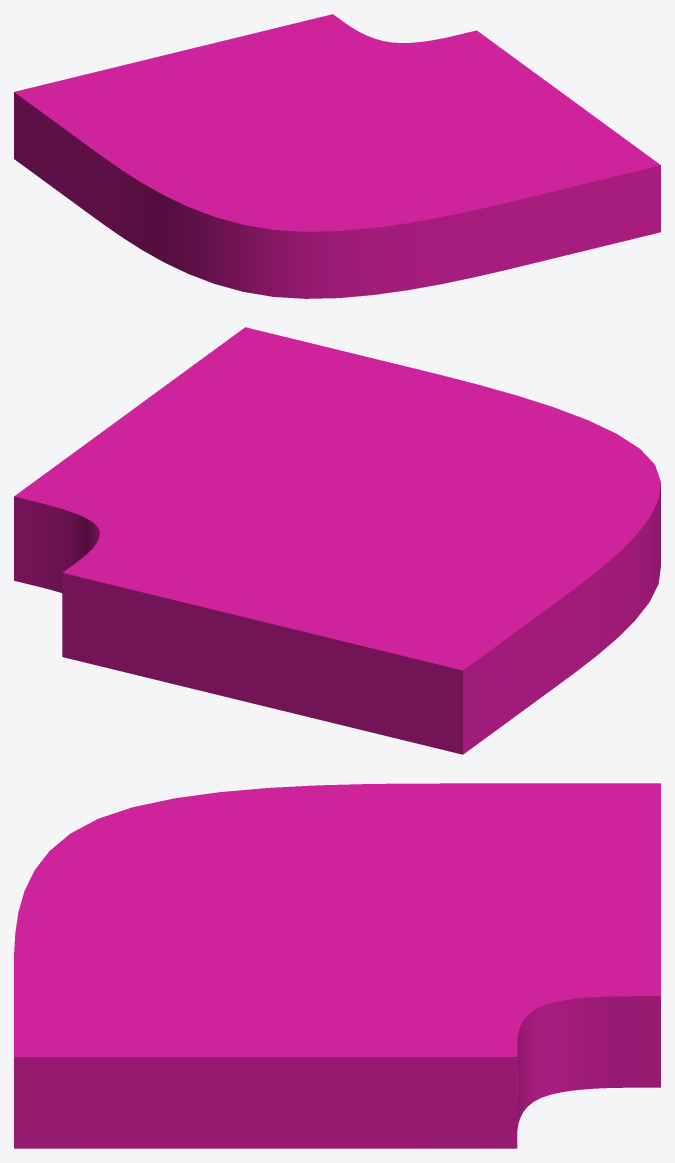
File: Smallest Rounded corner.fbx
3 renders of one model, top to bottom at view 1: azimuth 30°, elevation 25°; view 2: azimuth 150°, elevation 25°; view 3: azimuth 270°, elevation 25°, orthographic. The views are drawn at different scales.
Visible parts, largest first — view 1: Plane.002; view 2: Plane.002; view 3: Plane.002.
Boxes of the visible parts, x1,y1,x2,y2 form: Plane.002: (14,14,660,298); Plane.002: (14,327,660,754); Plane.002: (14,783,660,1148).
Size of the model in its own units: 640 by 100 by 640.
